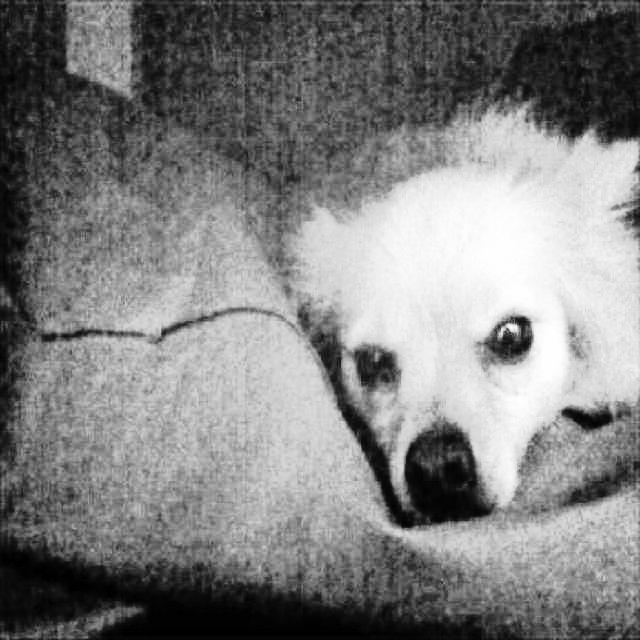Dog: (277, 94, 640, 528)
